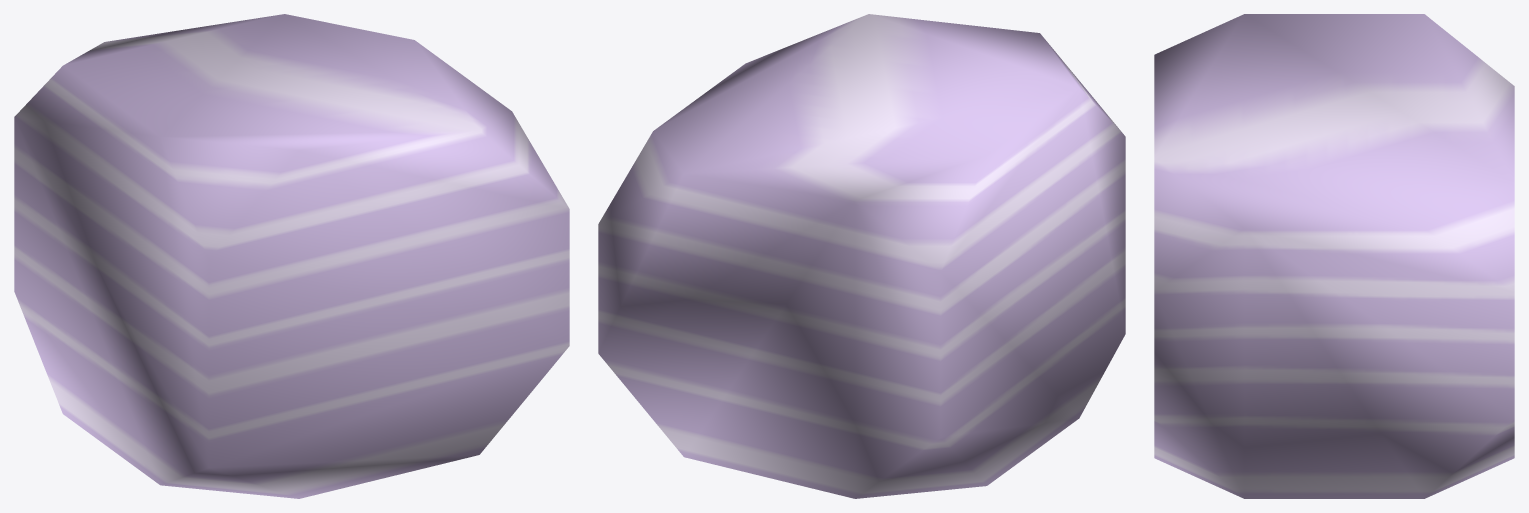
Rendered from wall1.obj.
3 renders of one model, left to right at view 1: azimuth 30°, elevation 25°; view 2: azimuth 150°, elevation 25°; view 3: azimuth 270°, elevation 25°, orthographic. The views are drawn at different scales.
Visible parts, largest first — view 1: pCube1; view 2: pCube1; view 3: pCube1.
Part boxes in pixels (x1,y1,x2,y2): pCube1: (14,14,569,498); pCube1: (598,14,1125,498); pCube1: (1154,14,1514,498).
Bounding box in the file's own units: 118 × 109 × 110.
